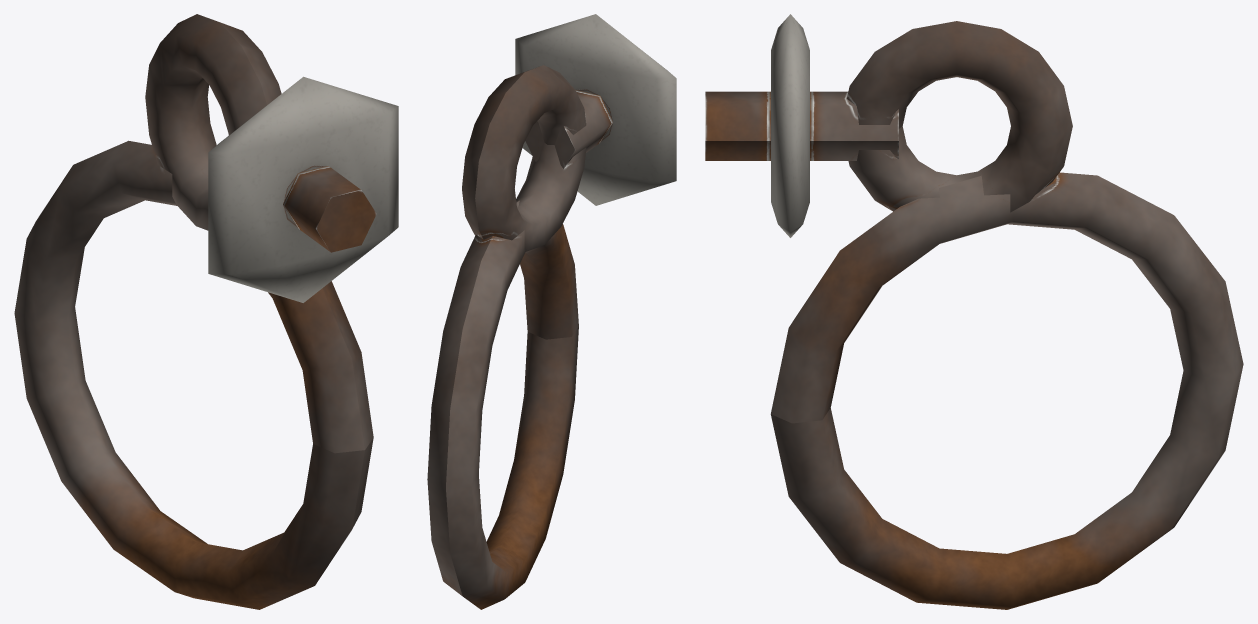
The model's file is SM_Camp_TieRing.fbx.
The picture shows the model from 3 angles, left to right: view 1: azimuth 30°, elevation 25°; view 2: azimuth 150°, elevation 25°; view 3: azimuth 270°, elevation 25°; orthographic projection. The views are drawn at different scales.
Visible parts, largest first — view 1: SM_Camp_TieRing; view 2: SM_Camp_TieRing; view 3: SM_Camp_TieRing.
Part boxes in pixels (bbox=[...]): SM_Camp_TieRing: bbox=[14, 14, 398, 609]; SM_Camp_TieRing: bbox=[427, 14, 676, 609]; SM_Camp_TieRing: bbox=[705, 14, 1243, 609].
Size of the model in its own units: 5.62 by 13.91 by 17.
